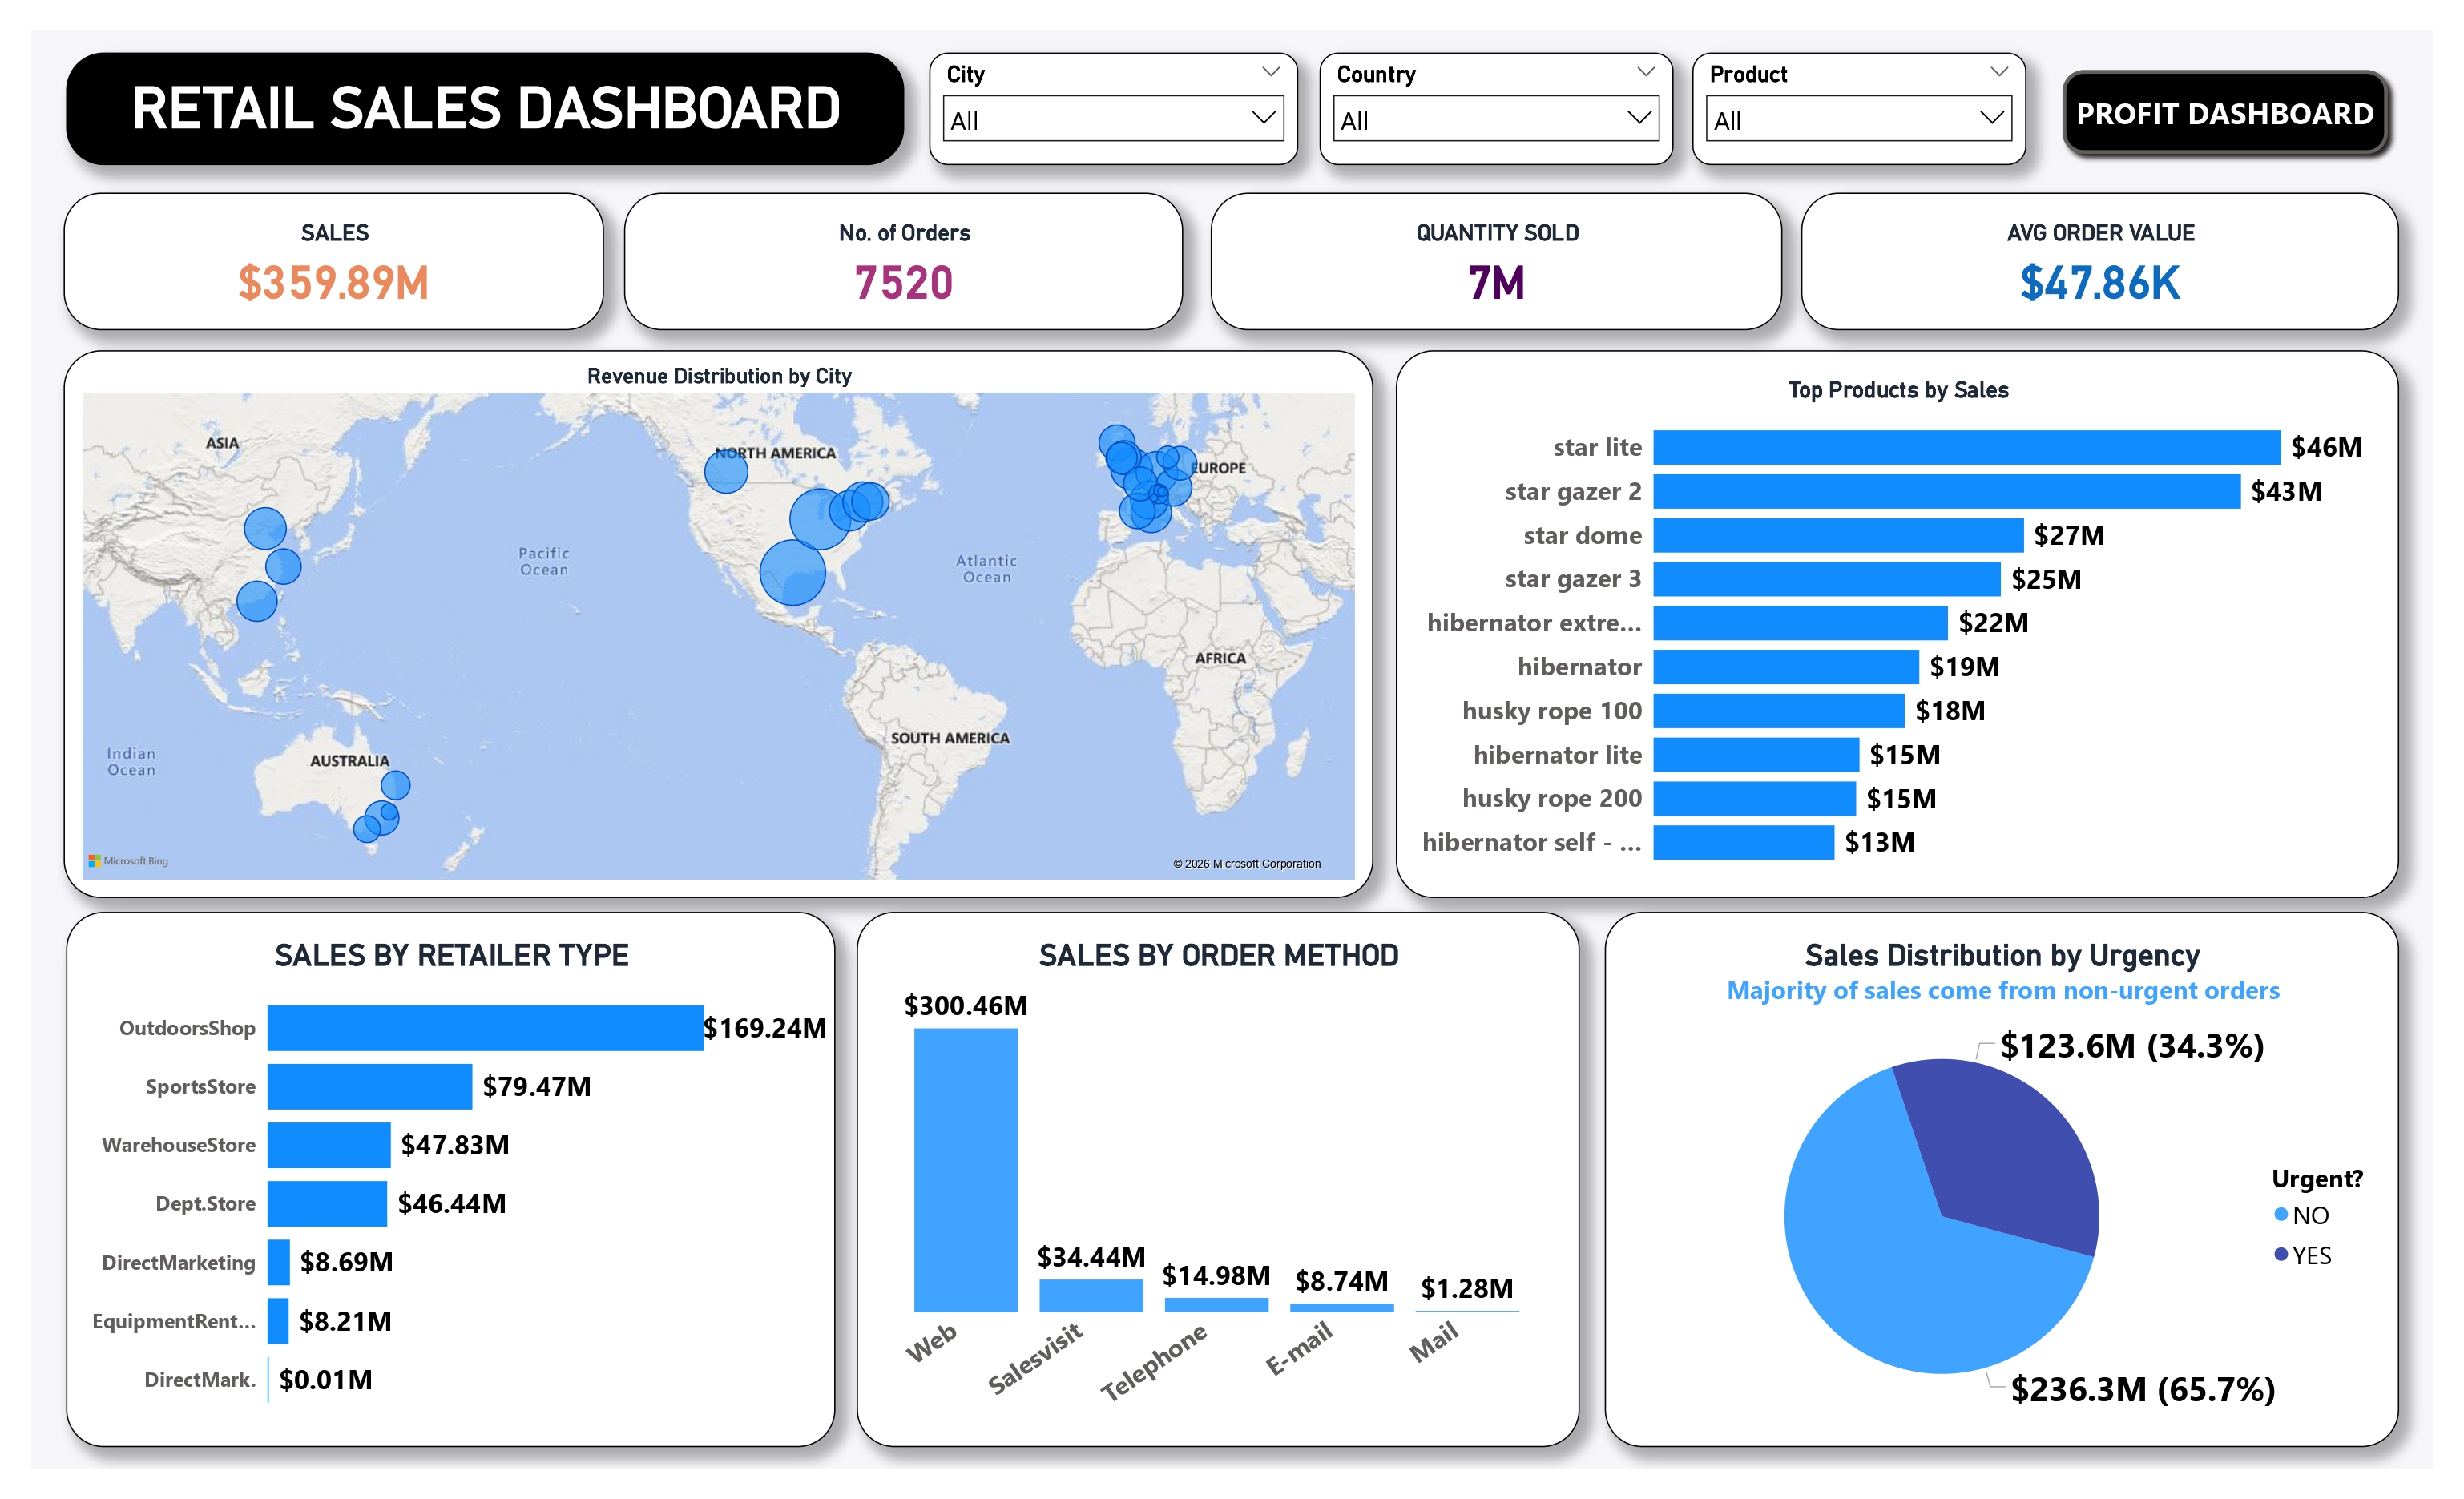

The page's visual inventory and layout, read from the dashboard file:
{"tool":"powerbi","page":{"name":"SALES","canvas":[1920,1150],"ordinal":0},"visuals":[{"type":"textbox","box":[26.4,17.6,894.9,90.4],"z":0},{"type":"slicer","fields":{"Values":["Country Table.City"]},"box":[943.3,17.6,293.1,90.4],"z":0,"group":"g1"},{"type":"slicer","fields":{"Values":["Country Table.Country"]},"box":[1258.5,17.6,282.1,90.4],"z":1000,"group":"g1"},{"type":"card","title":"SALES","fields":{"Values":["Sum(Sales Table.Sales)"]},"box":[26.4,130,432,110.2],"z":1000,"group":"g2"},{"type":"clusteredBarChart","title":"SALES BY PRODUCT","fields":{"Y":["Sum(Sales Table.Sales)"],"Category":["Product Table.Product"]},"box":[1091,255.7,802.3,438.6],"z":1000},{"type":"slicer","fields":{"Values":["Product Table.Product"]},"box":[1562.6,17.6,330.6,90.4],"z":2000,"group":"g1"},{"type":"card","title":"No. of Orders","fields":{"Values":["Sales Table.Total Orders"]},"box":[473.8,130,447.4,110.2],"z":2000,"group":"g2"},{"type":"map","title":"SALES BY CITY","fields":{"Category":["Country Table.City"],"Size":["Sum(Sales Table.Sales)"]},"box":[26.4,255.7,1046.9,438.6],"z":2000},{"type":"card","title":"QUANTITY SOLD","fields":{"Values":["Sum(Sales Table.QuantitySold)"]},"box":[943.3,130,456.2,110.2],"z":3000,"group":"g2"},{"type":"barChart","title":"SALES BY RETAILER TYPE","fields":{"Category":["Sales Table.Retailertype"],"Y":["Sum(Sales Table.Sales)"]},"box":[27.5,705,615,427.5],"z":3000},{"type":"card","title":"AVG ORDER VALUE","fields":{"Values":["Sales Table.AOV"]},"box":[1415,130,478.3,110.2],"z":4000,"group":"g2"},{"type":"clusteredColumnChart","title":"SALES BY ORDER METHOD","fields":{"Y":["Sum(Sales Table.Sales)"],"Category":["Sales Table.Ordermethodtype"]},"box":[660,705,577.5,427.5],"z":4000},{"type":"pieChart","title":"SALES BY URGENCY","fields":{"Y":["Sum(Sales Table.Sales)"],"Category":["Sales Table.Urgent?"]},"box":[1257.5,705,635,340],"z":5000},{"type":"group","id":"g1","title":"Group 1","box":[943.3,17.6,950,90.4],"z":6000},{"type":"group","id":"g2","title":"Group 2","box":[26.4,130,1866.9,110.2],"z":7000},{"type":"pageNavigator","box":[1257.5,1065,637.5,67.5],"z":8000}]}

Visuals, with their boxes on the page's 1920x1150 design canvas (x1, y1, x2, y2). These are canvas units, not pixel positions in the 2464x1499 screenshot, which may show the page scaled, cropped or inside an application window:
textbox: 26 18 921 108
slicer - Country Table.City: 943 18 1236 108
slicer - Country Table.Country: 1258 18 1541 108
"SALES" card: 26 130 458 240
"SALES BY PRODUCT" clusteredBarChart: 1091 256 1893 694
slicer - Product Table.Product: 1563 18 1893 108
"No. of Orders" card: 474 130 921 240
"SALES BY CITY" map: 26 256 1073 694
"QUANTITY SOLD" card: 943 130 1400 240
"SALES BY RETAILER TYPE" barChart: 28 705 642 1132
"AVG ORDER VALUE" card: 1415 130 1893 240
"SALES BY ORDER METHOD" clusteredColumnChart: 660 705 1238 1132
"SALES BY URGENCY" pieChart: 1258 705 1892 1045
"Group 1" group: 943 18 1893 108
"Group 2" group: 26 130 1893 240
pageNavigator: 1258 1065 1895 1132
